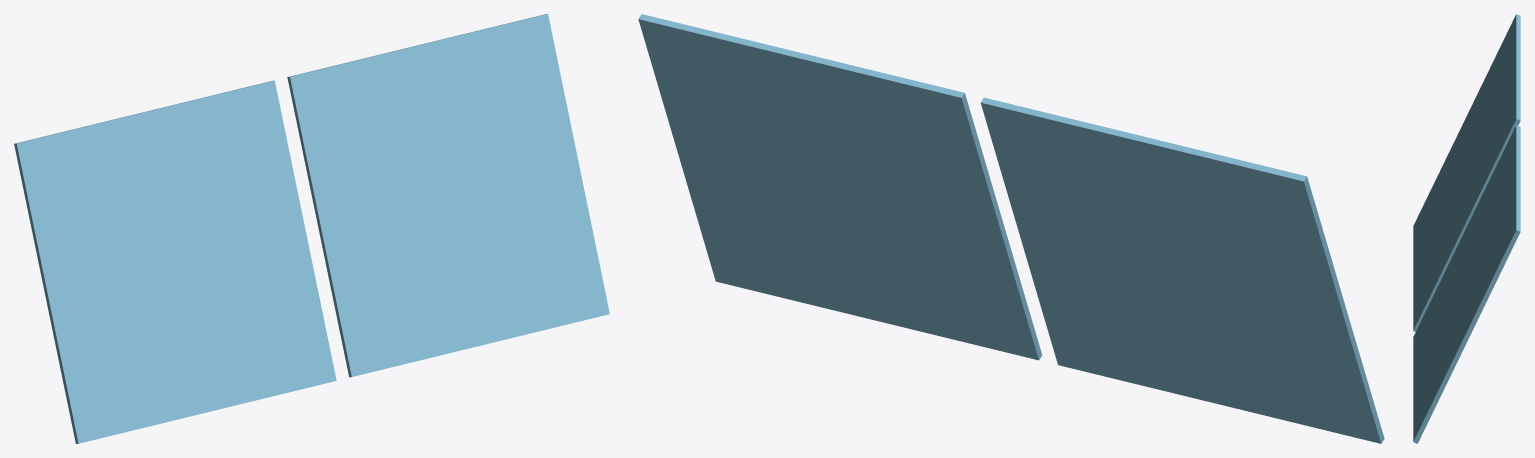
File: windshield.obj
The picture shows the model from 3 angles, left to right: view 1: azimuth 30°, elevation 25°; view 2: azimuth 150°, elevation 25°; view 3: azimuth 270°, elevation 25°; orthographic projection. The views are drawn at different scales.
Parts seen in each view (by area): view 1: windshield; view 2: windshield; view 3: windshield.
Boxes of the visible parts, x1,y1,x2,y2 form: windshield: (14, 14, 609, 443); windshield: (638, 14, 1384, 443); windshield: (1413, 14, 1520, 443).
Size of the model in its own units: 2.1 by 0.9706 by 0.4418.
